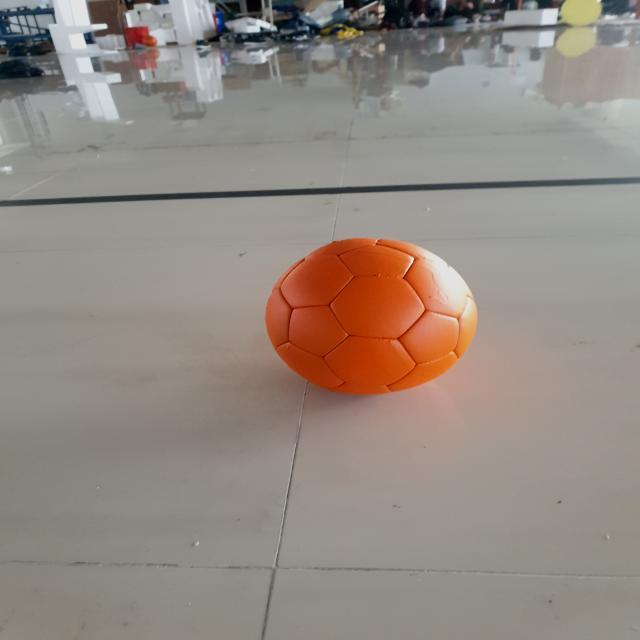bola: (252, 230, 489, 408)
